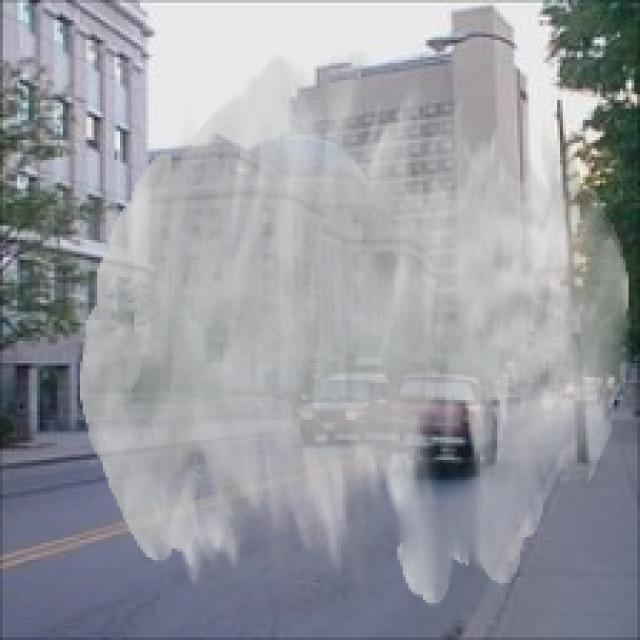Smoke: (79, 51, 632, 606)
